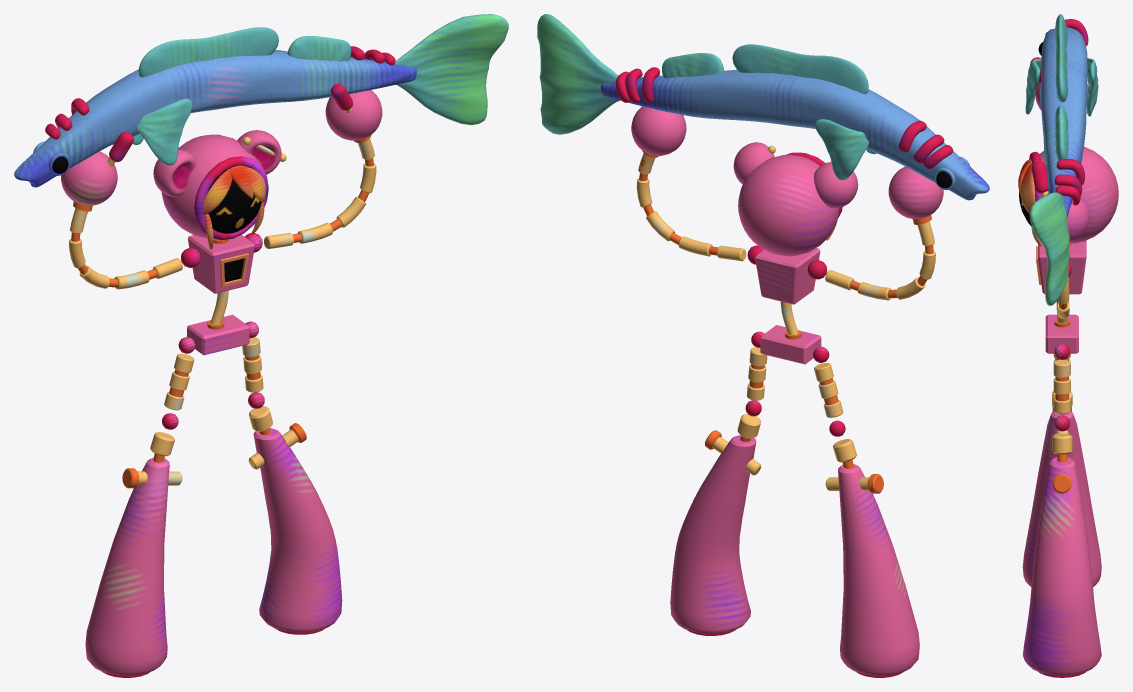
File: chelly.gltf
3 renders of one model, left to right at view 1: azimuth 30°, elevation 25°; view 2: azimuth 150°, elevation 25°; view 3: azimuth 270°, elevation 25°, orthographic. The views are drawn at different scales.
Visible parts, largest first — view 1: chelly; view 2: chelly; view 3: chelly.
Part boxes in pixels (bbox=[...]): chelly: bbox=[14, 14, 508, 677]; chelly: bbox=[537, 14, 989, 677]; chelly: bbox=[1018, 14, 1118, 677].
Size of the model in its own units: 12.42 by 15.27 by 2.37.
Materials: 9 (9 with a texture image).
